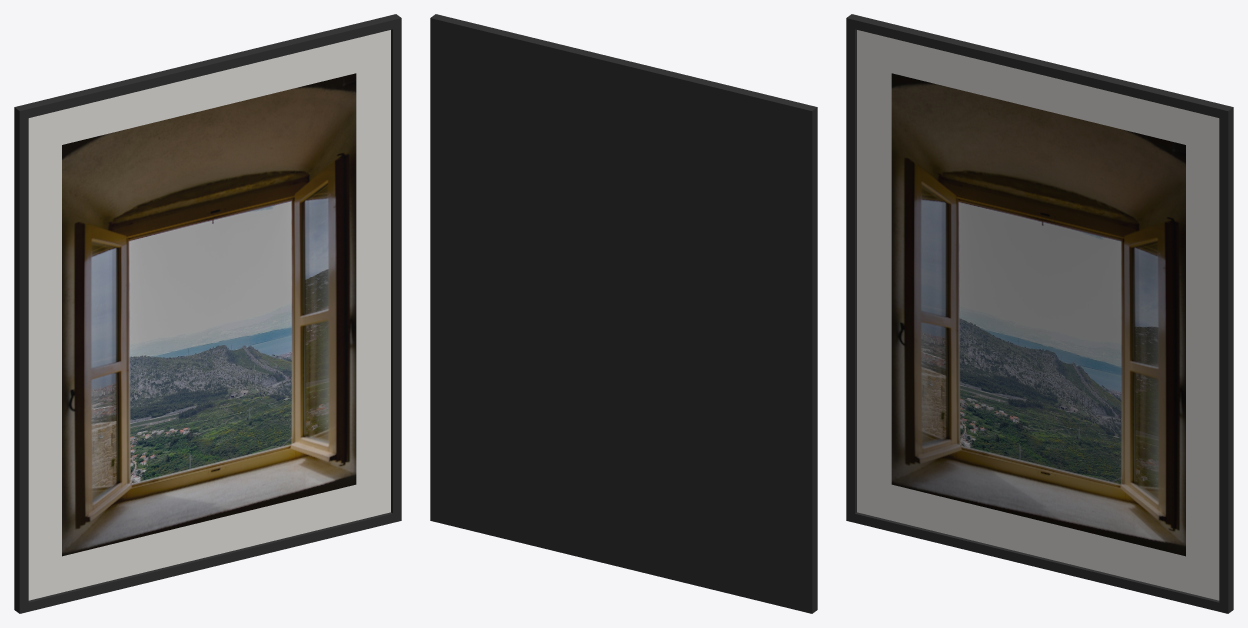
File: fonstervy-90.gltf
3 views of the same model, side by side, from view 1: azimuth 30°, elevation 25°; view 2: azimuth 150°, elevation 25°; view 3: azimuth 330°, elevation 25° (orthographic).
Parts seen in each view (by area): view 1: tavla; view 2: tavla; view 3: tavla.
Boxes of the visible parts, box(x1,y1,x2,y2) form: tavla: box(14, 14, 401, 613); tavla: box(430, 14, 817, 613); tavla: box(846, 14, 1233, 613).
Size of the model in its own units: 0.8745 by 1.1 by 0.022.
3 materials, 1 textured.
